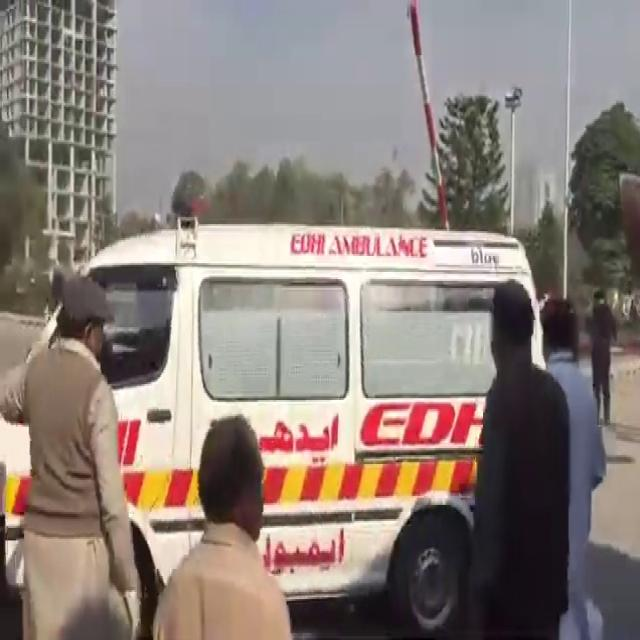ambulance: (49, 220, 536, 623)
